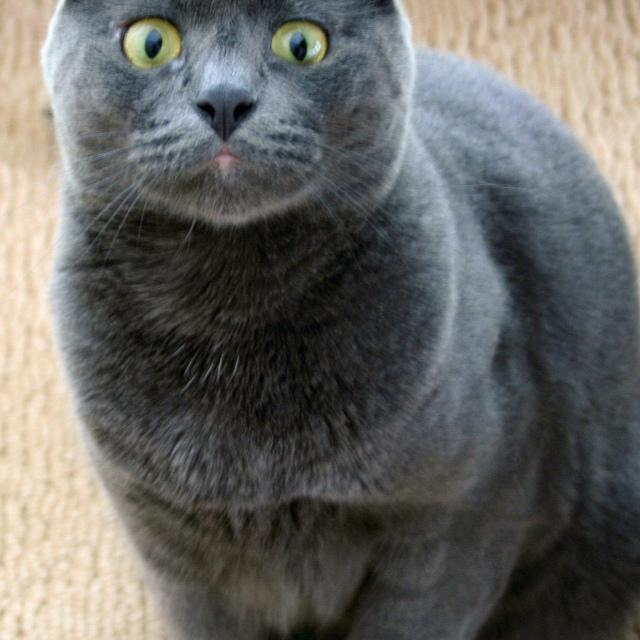animals: (68, 0, 400, 132)
